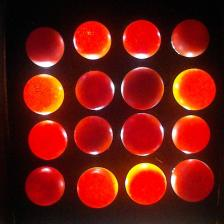fertile: (121, 66, 164, 110), (120, 113, 164, 156), (171, 159, 214, 202), (25, 166, 65, 206), (25, 27, 64, 68), (74, 115, 113, 155), (75, 71, 114, 110), (172, 19, 210, 58)
infertile: (76, 166, 119, 210), (172, 68, 216, 110), (125, 162, 167, 206), (24, 73, 64, 116), (28, 119, 68, 160), (122, 20, 162, 59), (73, 21, 112, 60), (172, 114, 210, 154)
